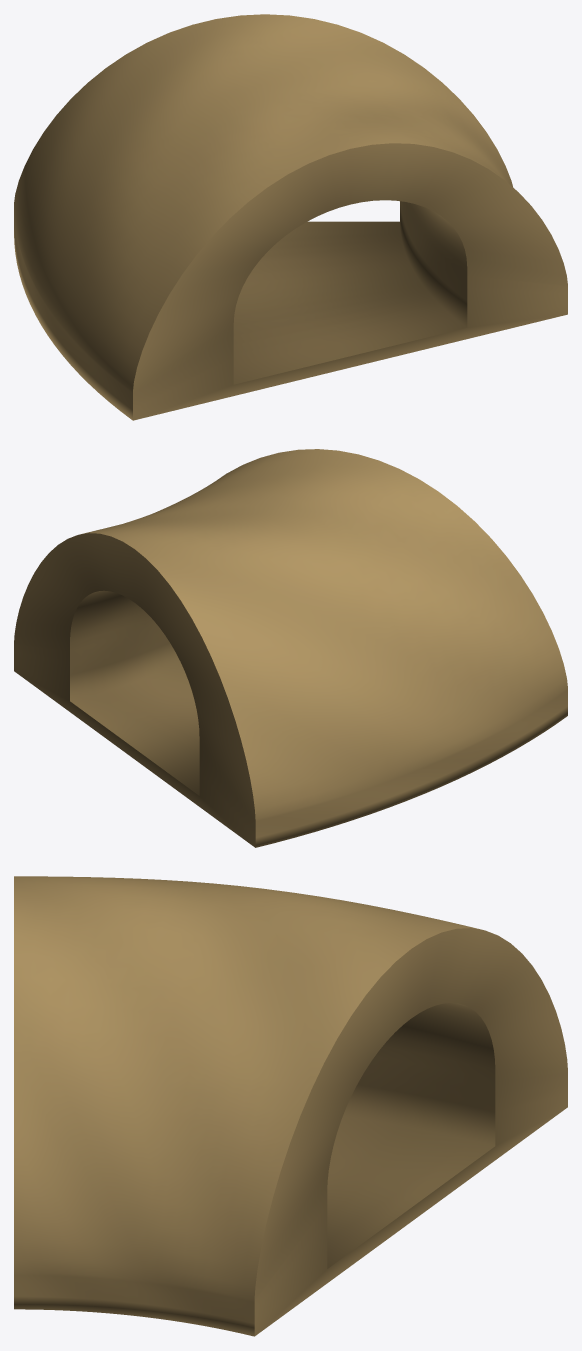
The model's file is curve_right_30_terrain.glb.
The picture shows the model from 3 angles, top to bottom: view 1: azimuth 30°, elevation 25°; view 2: azimuth 150°, elevation 25°; view 3: azimuth 270°, elevation 25°; orthographic projection. The views are drawn at different scales.
Visible parts, largest first — view 1: TerrainRoof.008; view 2: TerrainRoof.008; view 3: TerrainRoof.008.
Part boxes in pixels (x1,y1,x2,y2): TerrainRoof.008: (14,14,567,420); TerrainRoof.008: (14,449,567,847); TerrainRoof.008: (14,876,567,1336).
Bounding box in the file's own units: 31.32 × 13.65 × 25.1.
